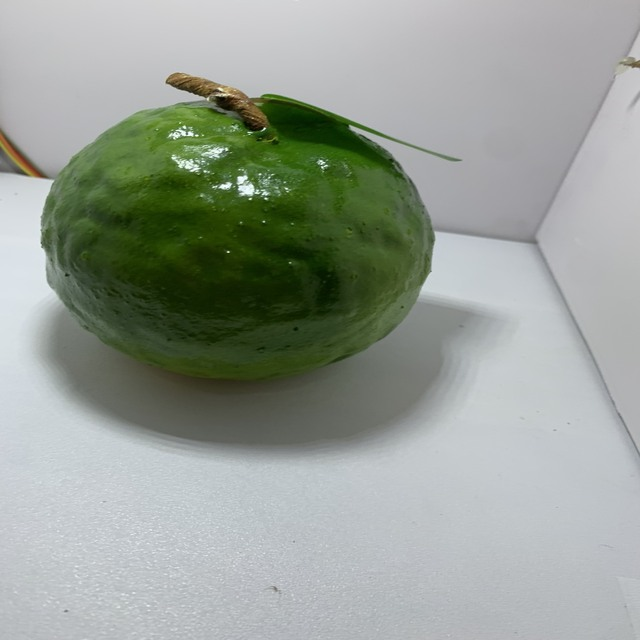Cam xanh: (37, 76, 447, 395)
